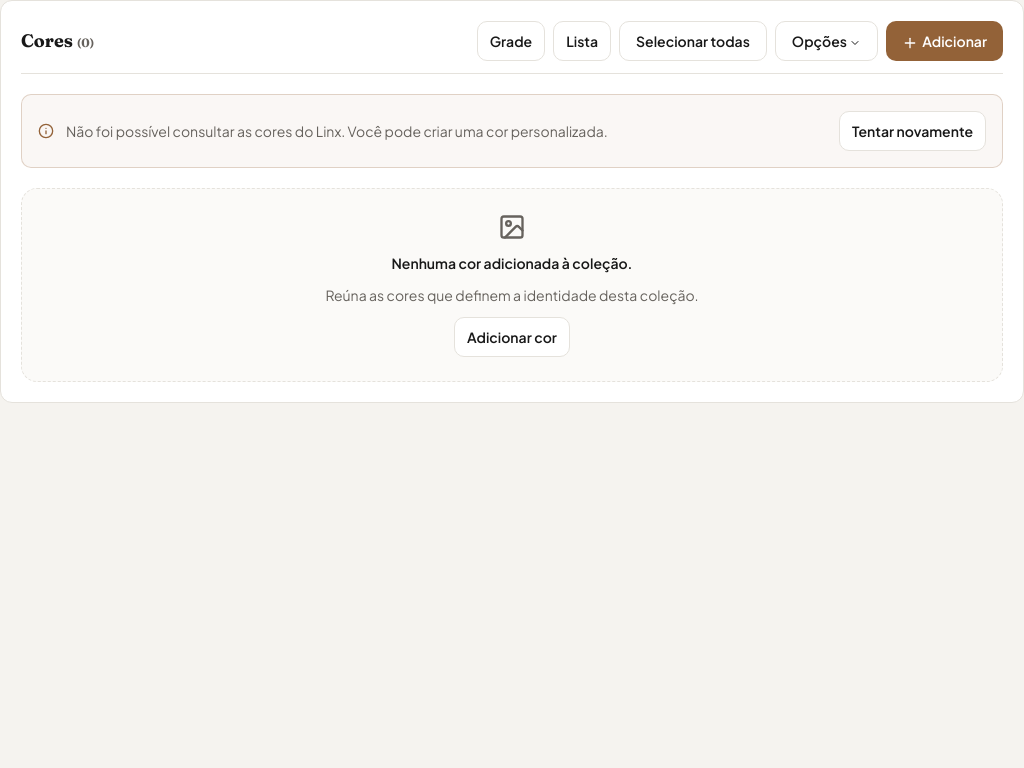
Test case: Abas de gestão da coleção › permite repetir a consulta de cores e criar uma cor mesmo durante uma falha
This screenshot has width=1024, height=768.
Click the button "Adicionar cor".
click(512, 337)  # box x1=454 y1=317 x2=570 y2=357
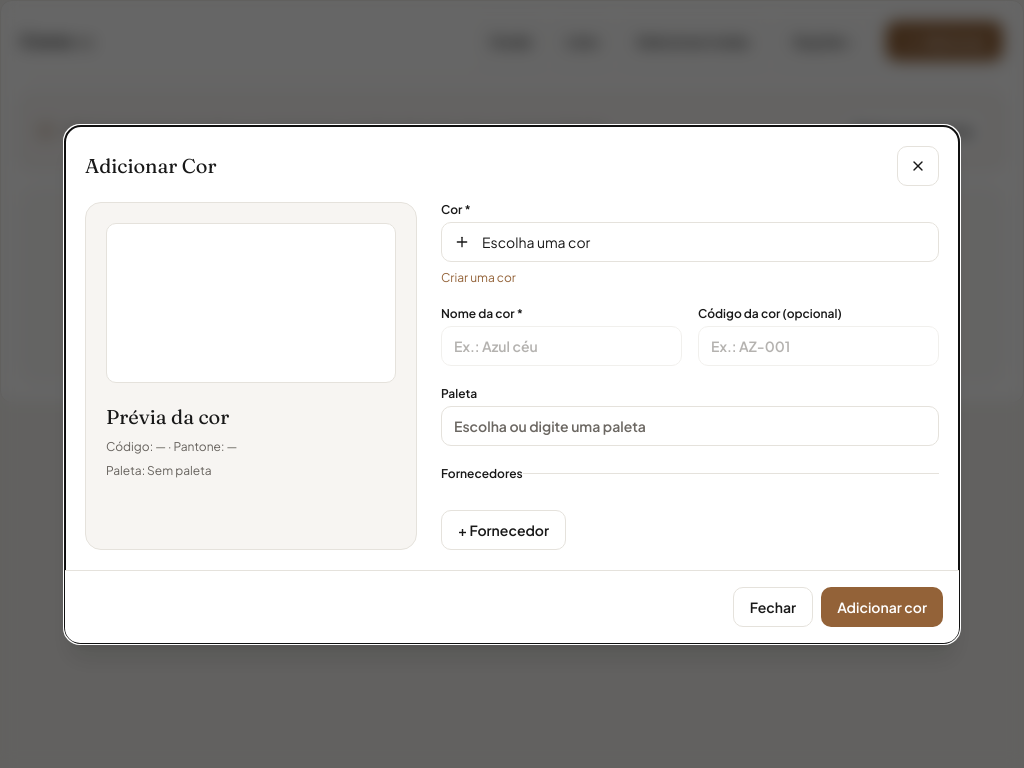
Expected: the dialog "Adicionar Cor" is shown, x1=64 y1=124 x2=960 y2=644
Press Escape
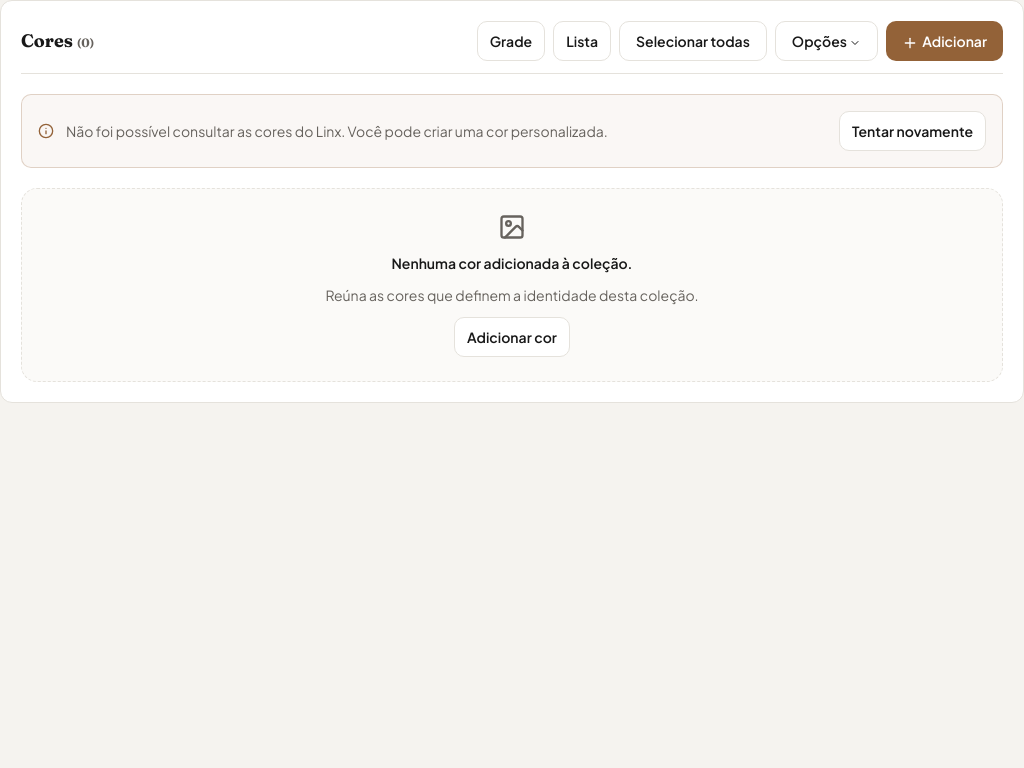
Expected: the dialog is gone
Click the button "Tentar novamente".
click(912, 131)  # box x1=839 y1=111 x2=986 y2=151
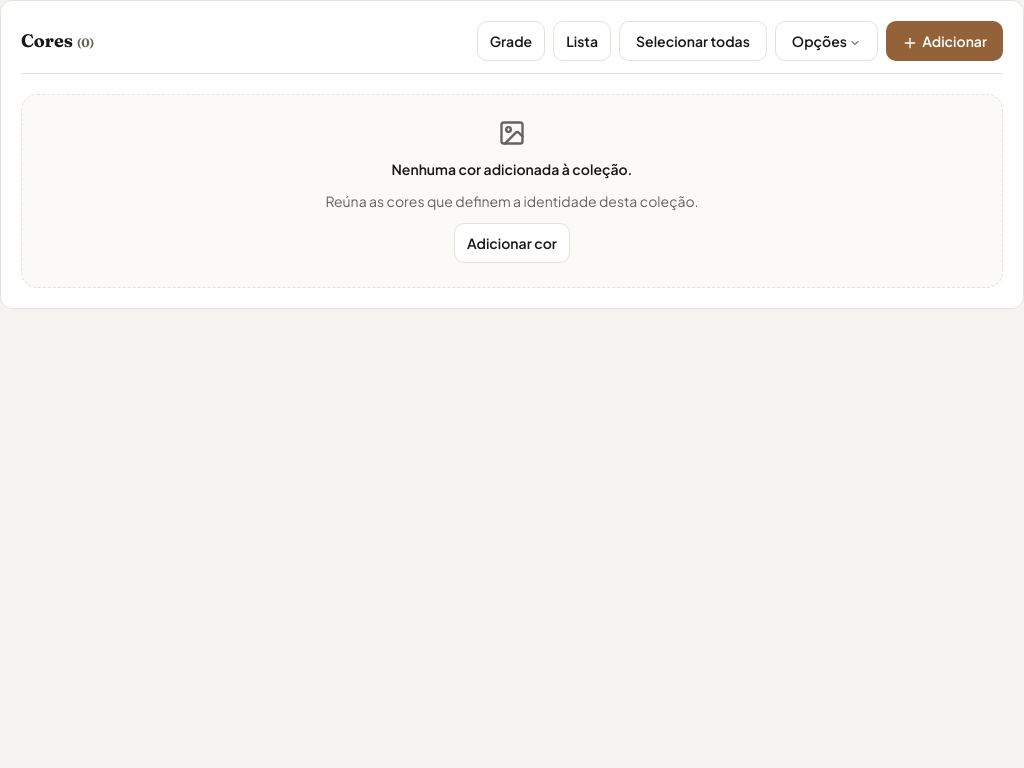
Expected: the button "Adicionar cor" is shown, x1=454 y1=223 x2=570 y2=263
Expected: the button "Tentar novamente" is gone
